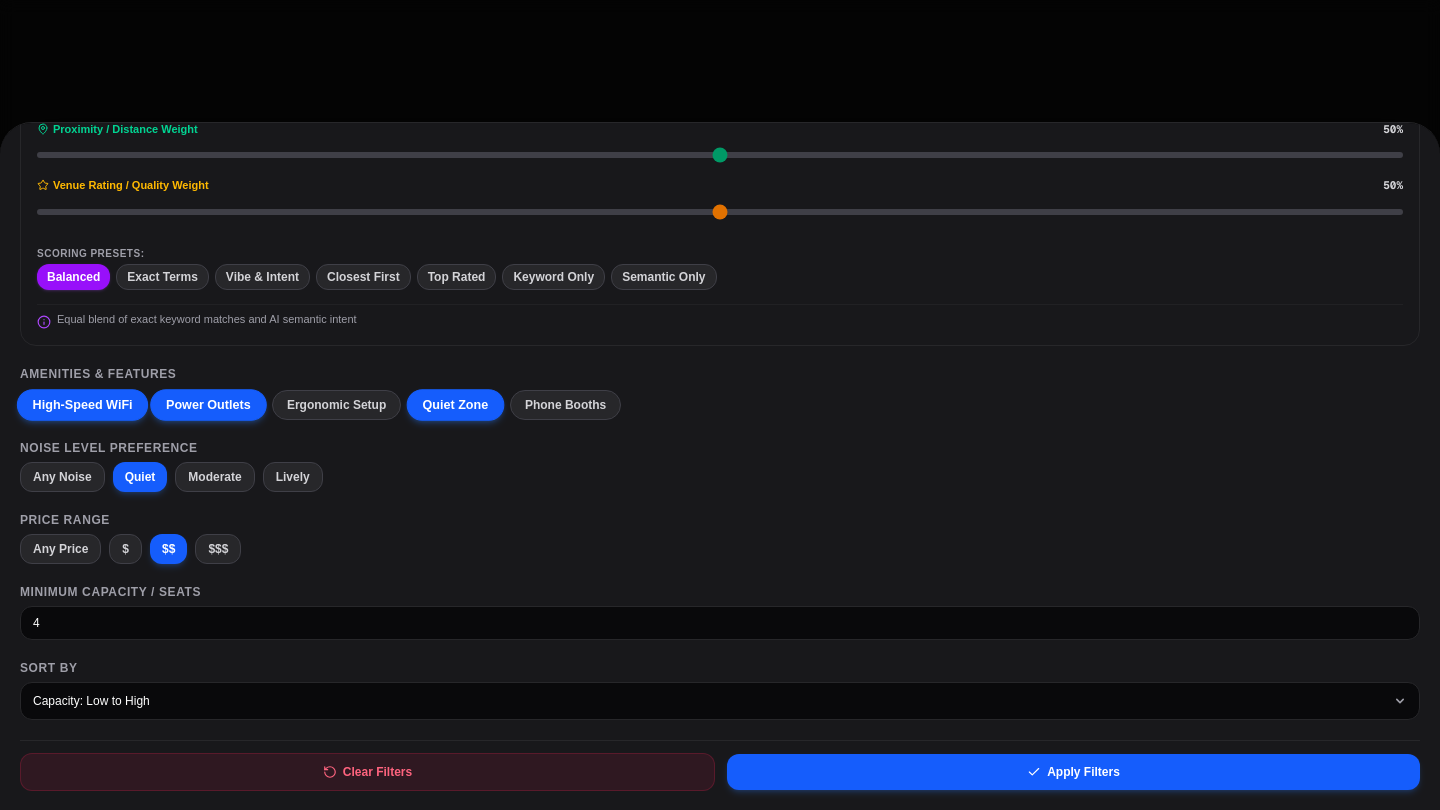
Scenario: VenueSearchDrawer Component (#1429) › resets all filter parameters and clears amenity chips on 'Clear Filters'
The image size is (1440, 810).
(page scrolled)
# Click 'Clear Filters' button
Click the button with test id "clear-filters-btn". click: click(368, 772)
box: [20,752,715,790]
(page scrolled)
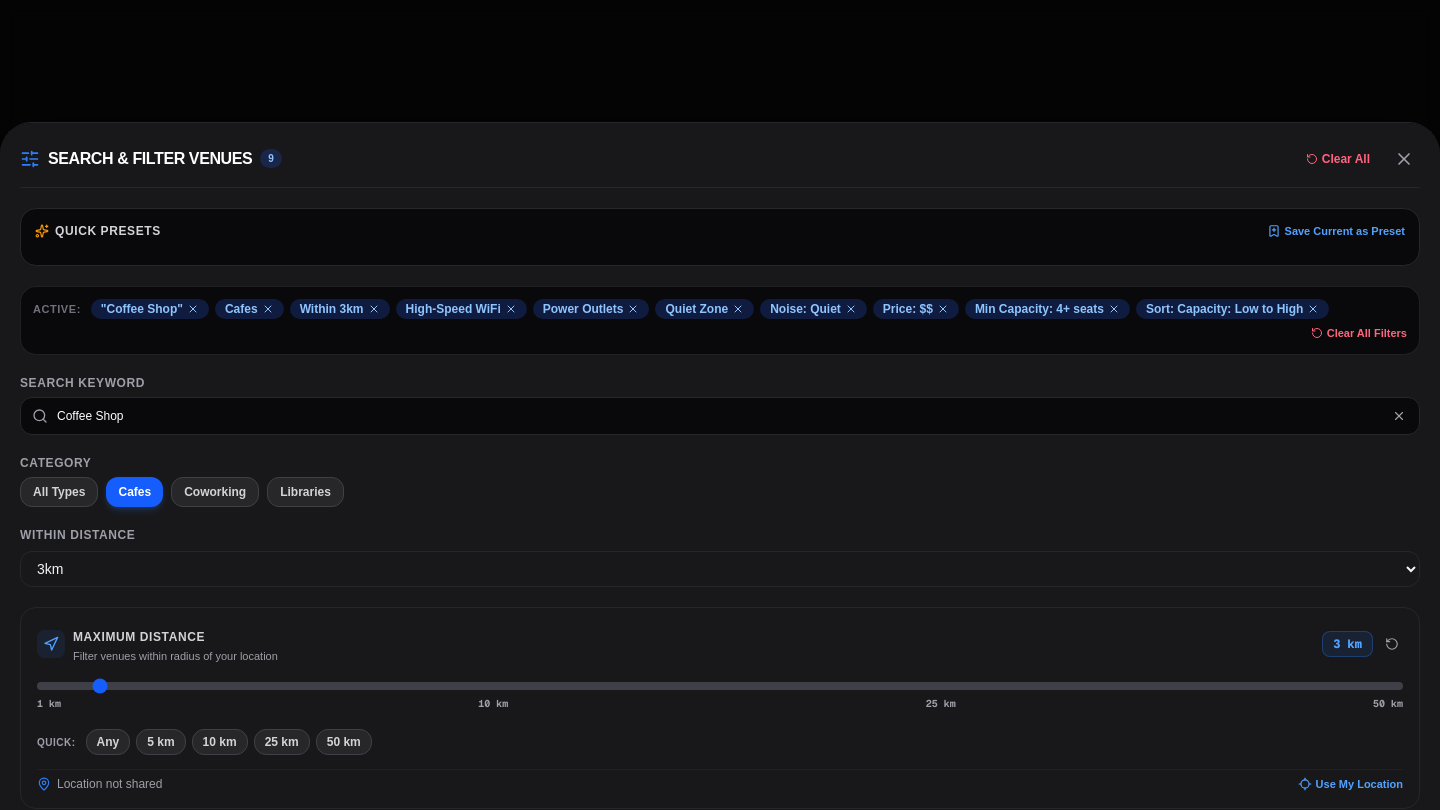
Now the field with test id "search-input" holds "Coffee Shop", box [20,396,1420,434]
